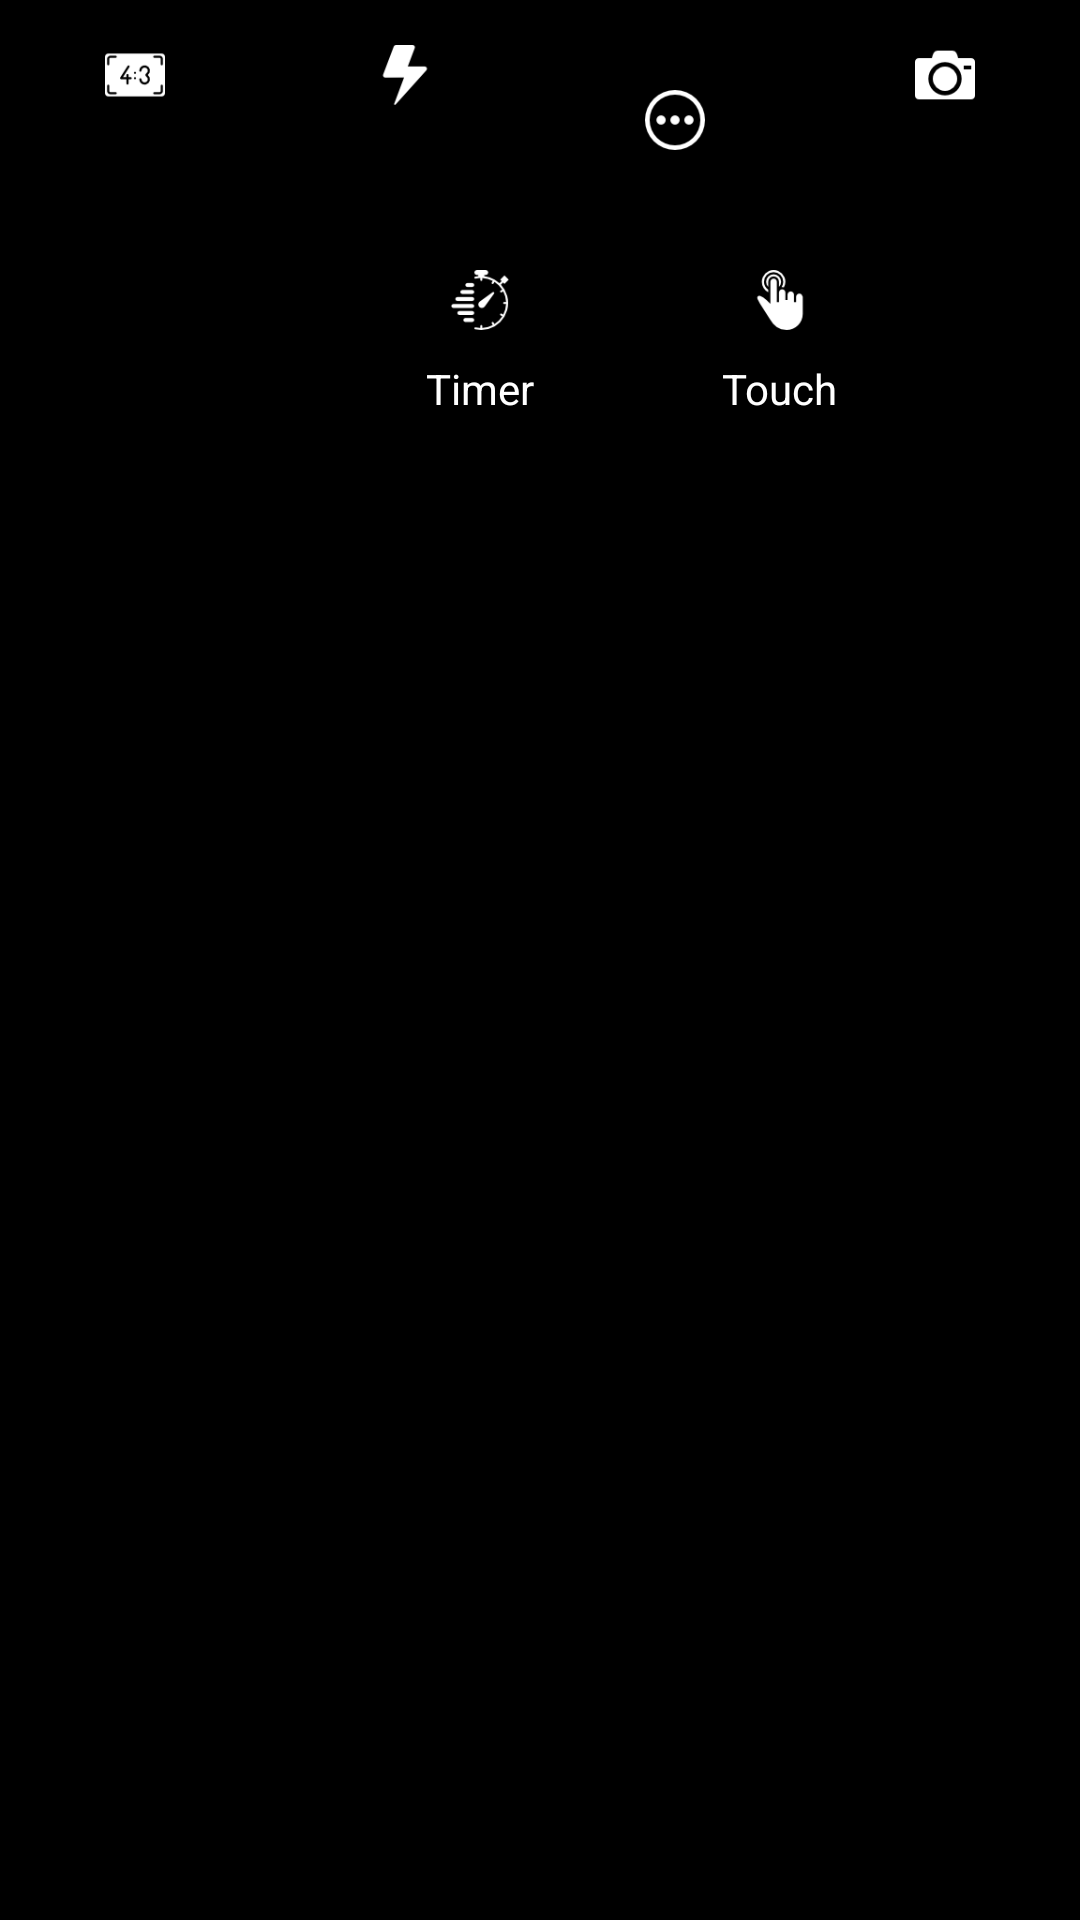

Named icons in this screenshot (1080 x 1920) and their centers, [x,y]:
camera: [945,75]
flash: [405,75]
more: [675,120]
ratio: [135,75]
